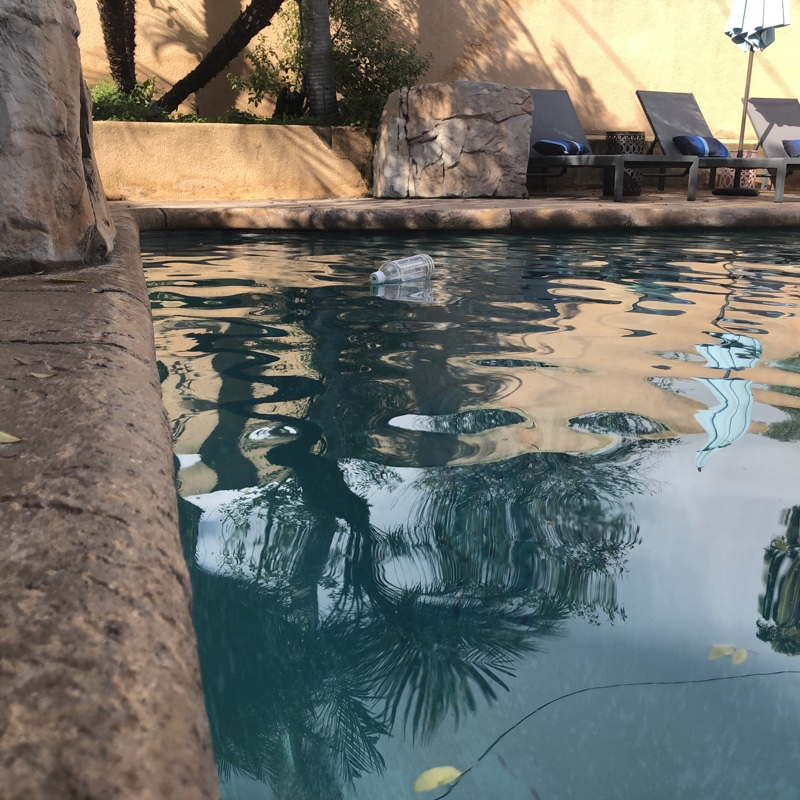Plastic Bottle: (367, 253, 440, 286)
